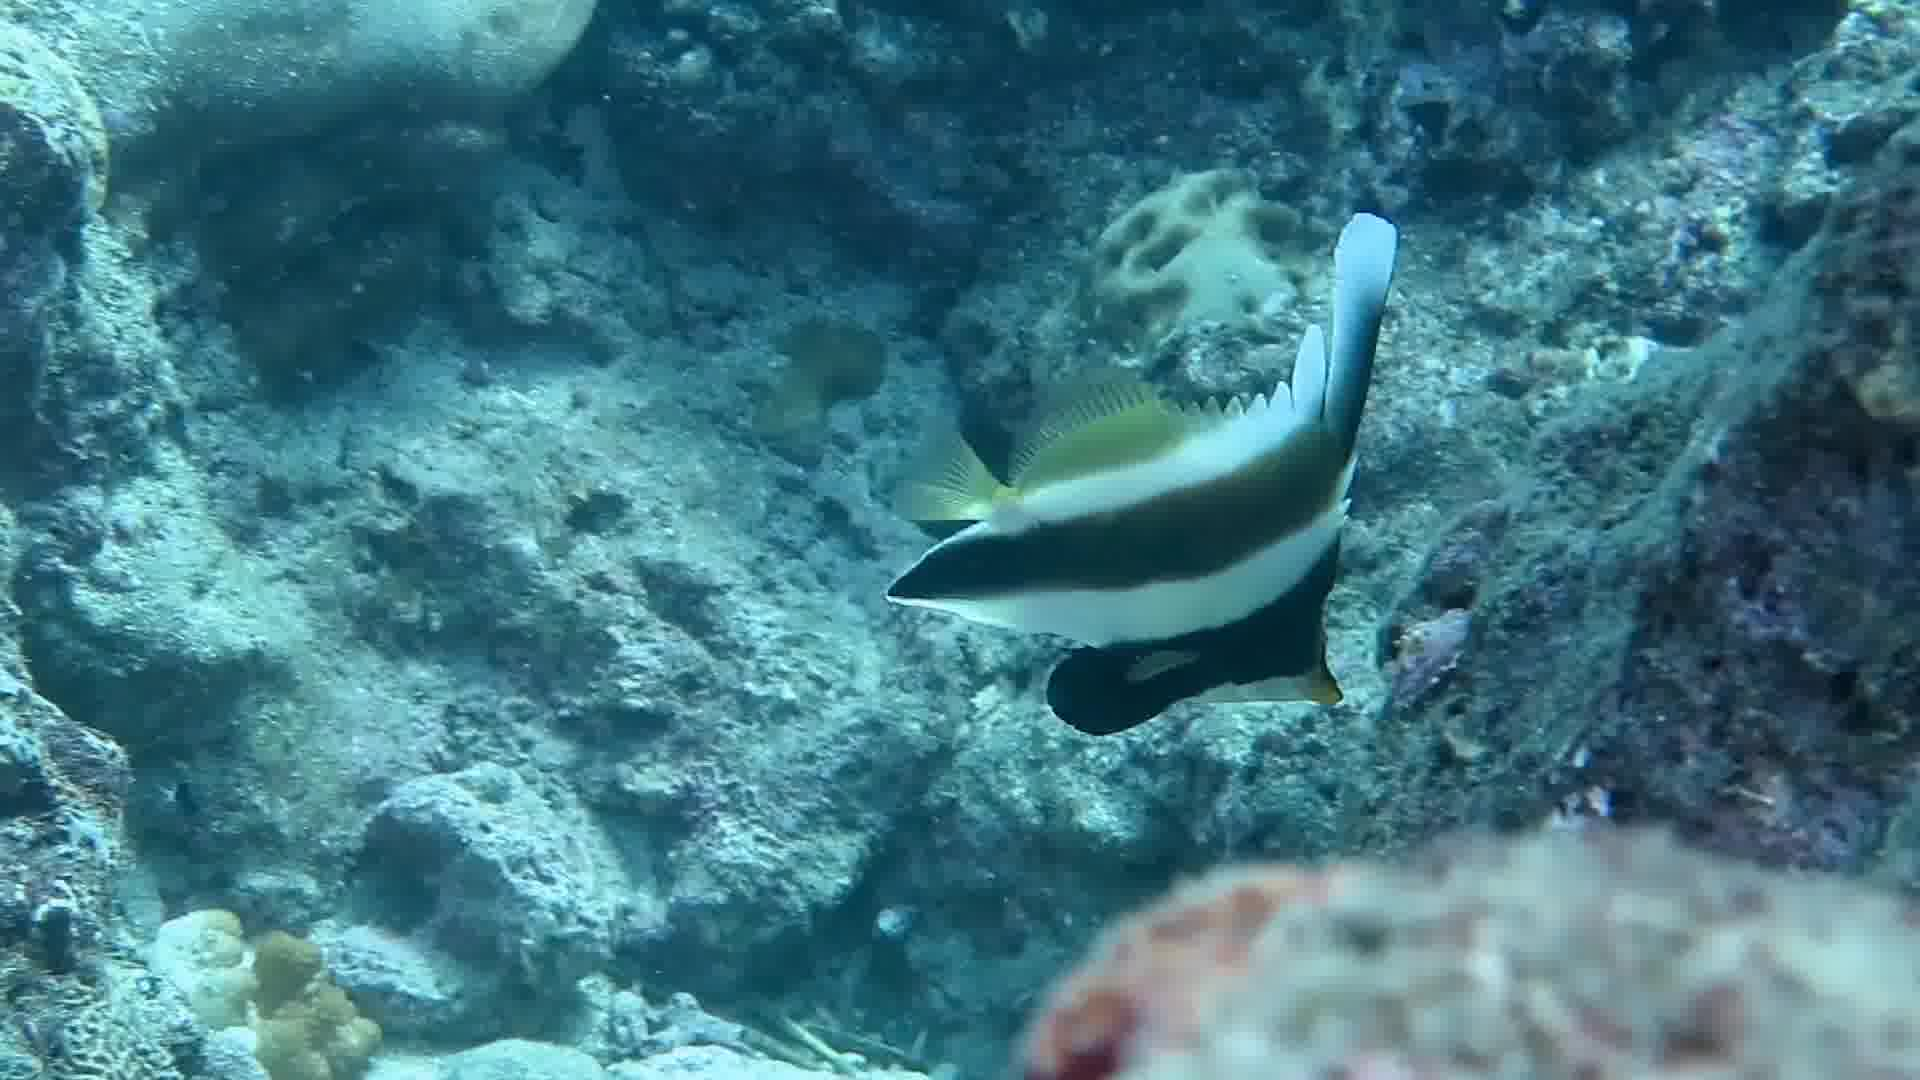Heniochus chrysostomus: (855, 37, 1432, 818)
